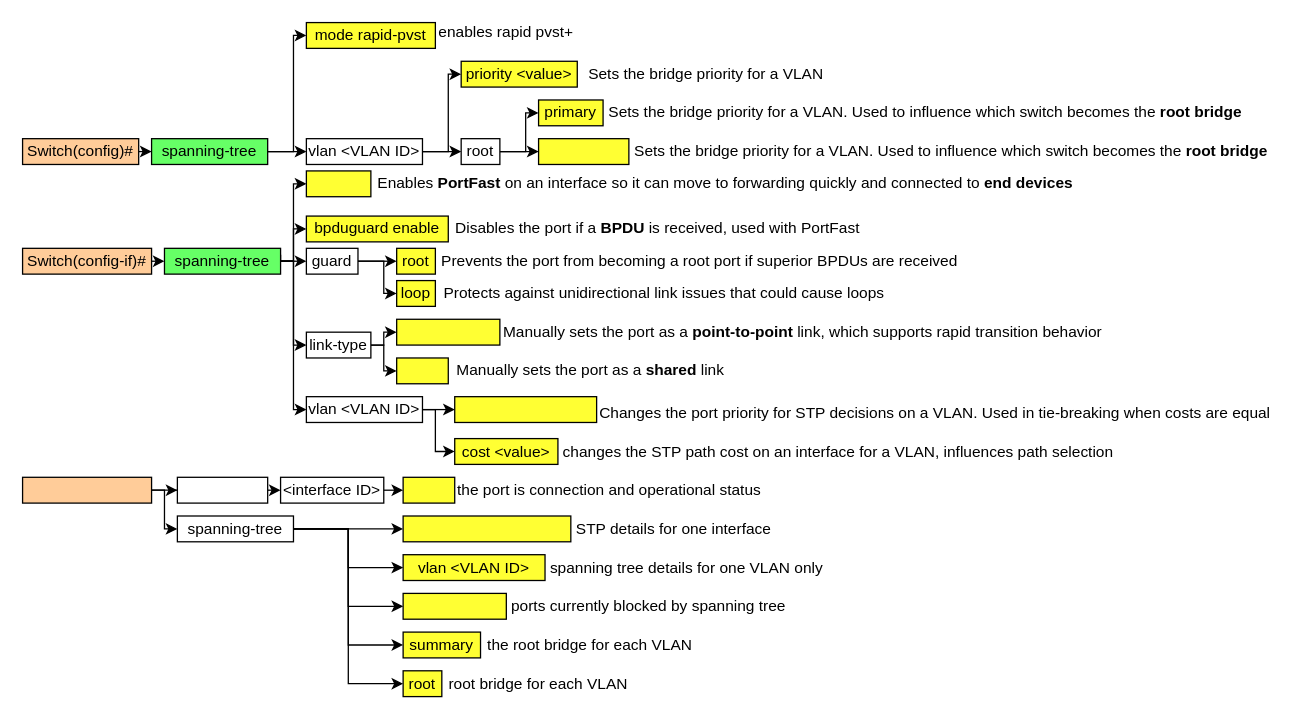
Some shapes in this 1296 by 720 pixel diagram are drawn without their labels. The shapes that lost their labels are listed below. From the top down, each one's box as (x1, y1, x2, y2) in pixels, then its label:
(537, 137, 629, 164): secondary
(305, 170, 371, 197): portfast
(395, 318, 500, 345): point-to-point
(395, 357, 448, 384): shared
(453, 395, 597, 422): port-priority <value>
(21, 476, 152, 503): Switch# show
(176, 476, 268, 503): interfaces
(402, 476, 455, 503): status
(402, 515, 571, 542): interface <interface-id>
(402, 592, 506, 619): blockedports
